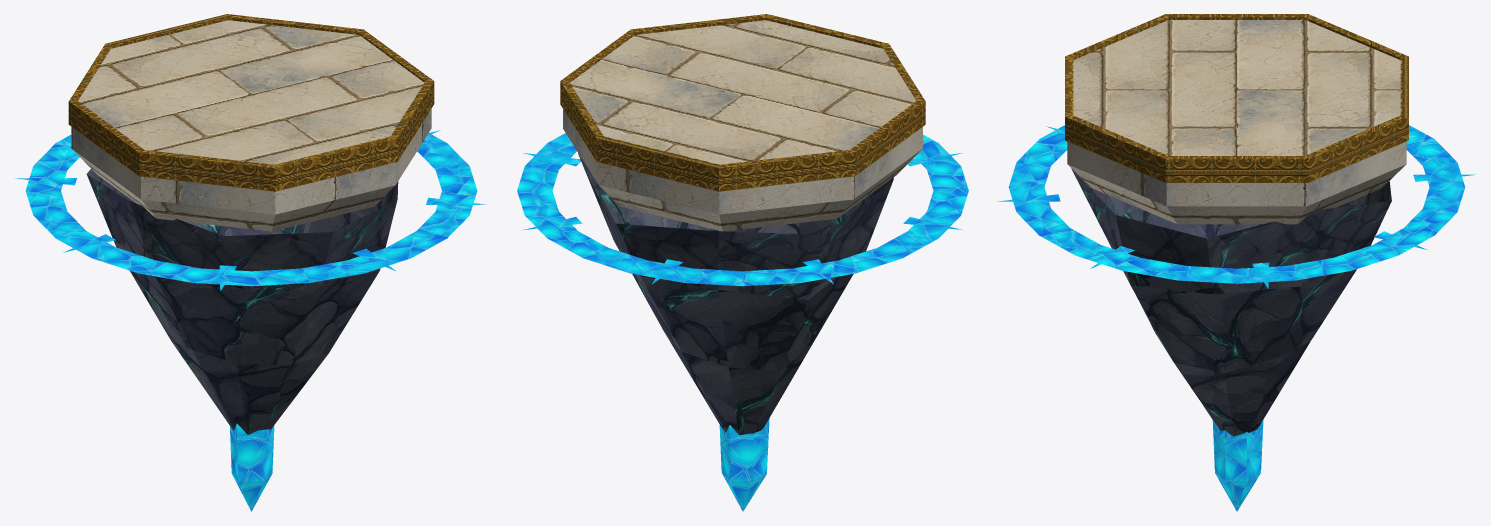
Rendered from hover_platform.glb.
3 views of the same model, side by side, from view 1: azimuth 30°, elevation 25°; view 2: azimuth 150°, elevation 25°; view 3: azimuth 270°, elevation 25° (orthographic).
Visible parts, largest first — view 1: CC_hover_platform; view 2: CC_hover_platform; view 3: CC_hover_platform.
Boxes of the visible parts, x1,y1,x2,y2 form: CC_hover_platform: [15, 14, 485, 511]; CC_hover_platform: [517, 14, 968, 511]; CC_hover_platform: [997, 14, 1475, 511].
Size of the model in its own units: 5.35 by 5.24 by 5.35.
Materials: 5 (5 with a texture image).
